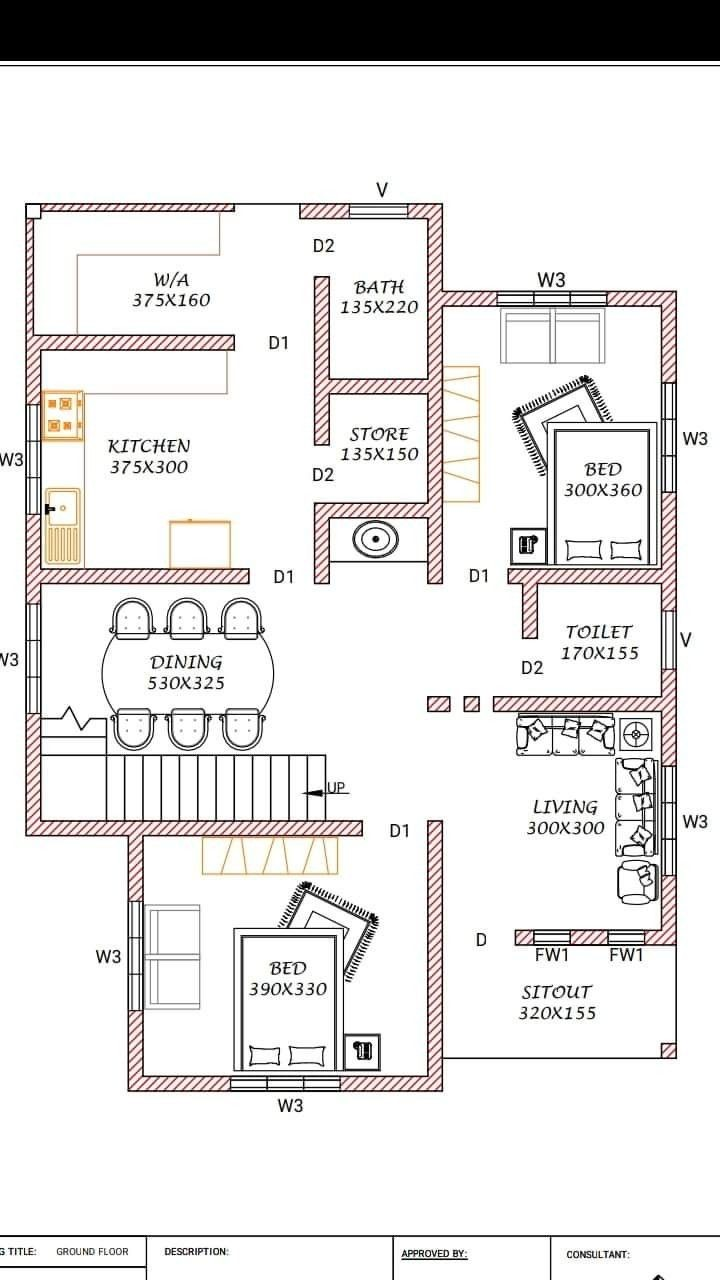room: (11, 202, 447, 598), (13, 588, 453, 827), (453, 563, 678, 951), (131, 839, 449, 1100), (439, 315, 686, 574)
wall: (9, 810, 368, 853), (419, 184, 451, 586), (25, 561, 251, 606), (421, 825, 457, 1102), (9, 329, 235, 363), (15, 196, 239, 225), (311, 365, 447, 408), (500, 690, 686, 719), (492, 563, 672, 592), (308, 263, 335, 453), (115, 1061, 239, 1100), (651, 492, 684, 619), (306, 494, 449, 523), (341, 1072, 445, 1104), (653, 270, 684, 374), (23, 215, 47, 339), (306, 494, 337, 586), (657, 663, 682, 766), (119, 1012, 149, 1094), (21, 514, 49, 600), (29, 715, 47, 841), (608, 286, 680, 317), (511, 584, 547, 641), (435, 280, 492, 315), (655, 866, 680, 941), (123, 833, 147, 898), (566, 919, 604, 957), (304, 196, 347, 225), (411, 192, 445, 225)
window: (233, 1063, 341, 1108), (117, 902, 153, 1012), (496, 286, 602, 321), (655, 770, 688, 880), (655, 388, 688, 496), (23, 392, 47, 515), (537, 923, 572, 966), (606, 921, 643, 955)
